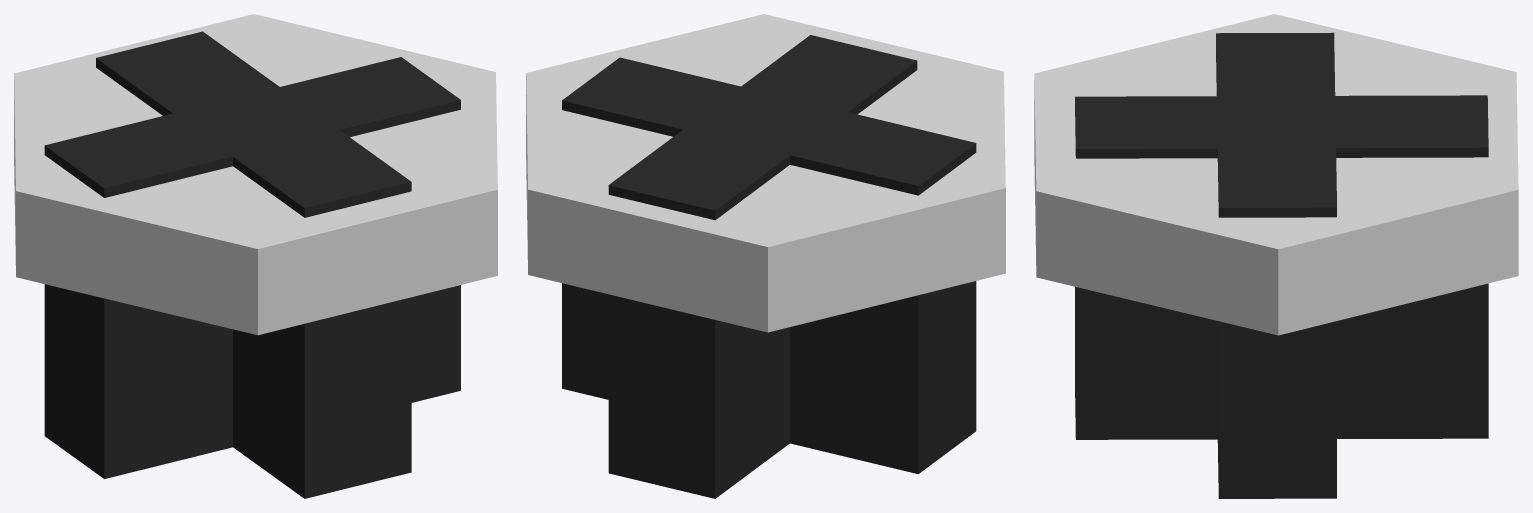
Rendered from CrossTable.glb.
3 renders of one model, left to right at view 1: azimuth 30°, elevation 25°; view 2: azimuth 150°, elevation 25°; view 3: azimuth 270°, elevation 25°, orthographic.
Parts seen in each view (by area): view 1: crossTable; view 2: crossTable; view 3: crossTable.
Part boxes in pixels (bbox=[...]): crossTable: bbox=[14, 14, 497, 498]; crossTable: bbox=[526, 14, 1005, 498]; crossTable: bbox=[1034, 14, 1518, 498].
Size of what is drawn, in the model's own units: 1.43 by 0.8233 by 1.24.
Materials: 1 (1 with a texture image).
